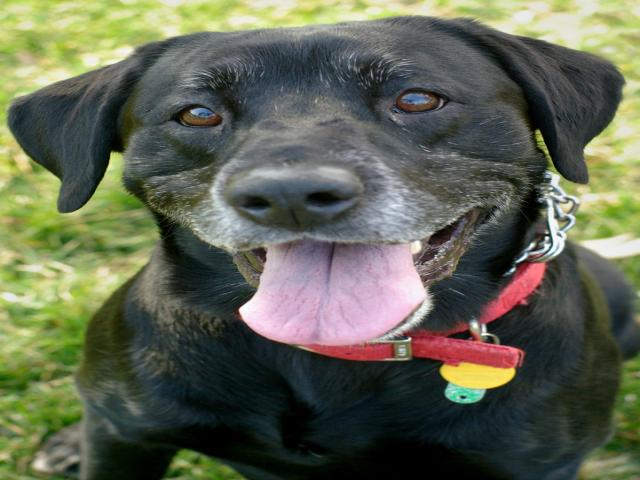Dog: (11, 10, 640, 480)
